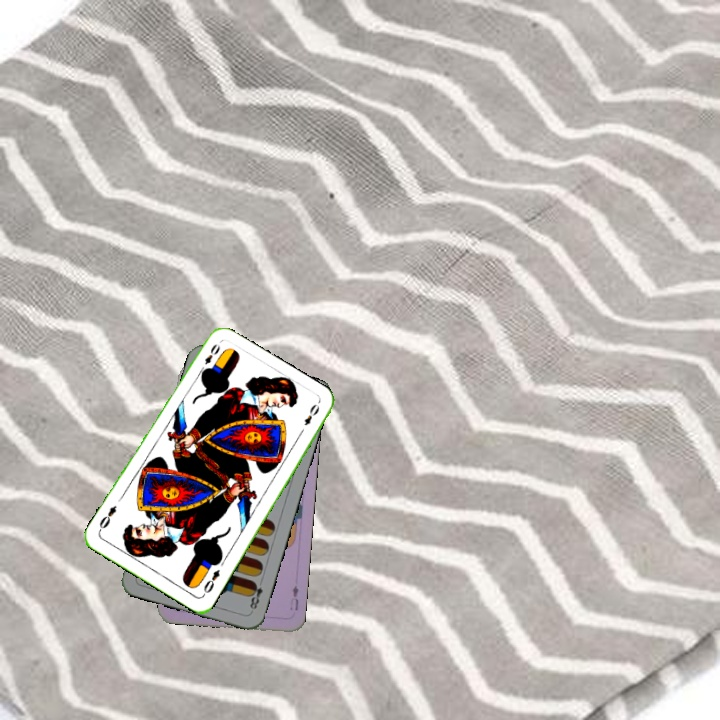E8: (246, 575, 266, 614)
EO: (195, 340, 223, 376), (199, 565, 223, 598)
EU: (286, 581, 301, 613)
